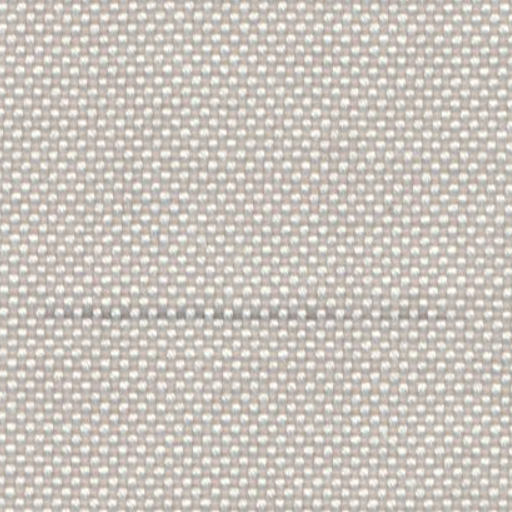WuZi: (40, 298, 444, 326)
